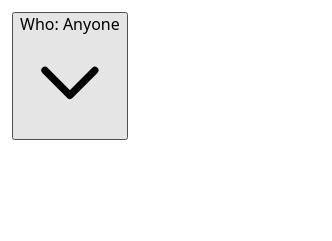
Test: DropChip › shows the chosen option and reports a new pick
Step 1. Click the button "Who: Anyone" → (70, 76), box top-left (12, 12), bottom-right (128, 140)
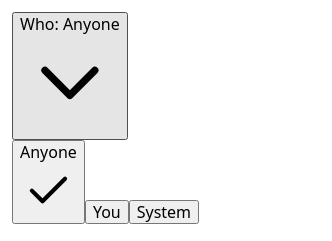
Step 2. Click the option "System" → (164, 212), box top-left (129, 200), bottom-right (199, 224)
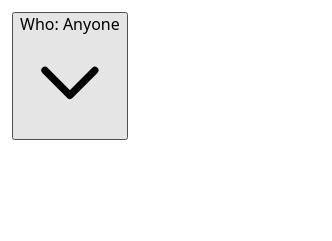
Expected: the list is gone
